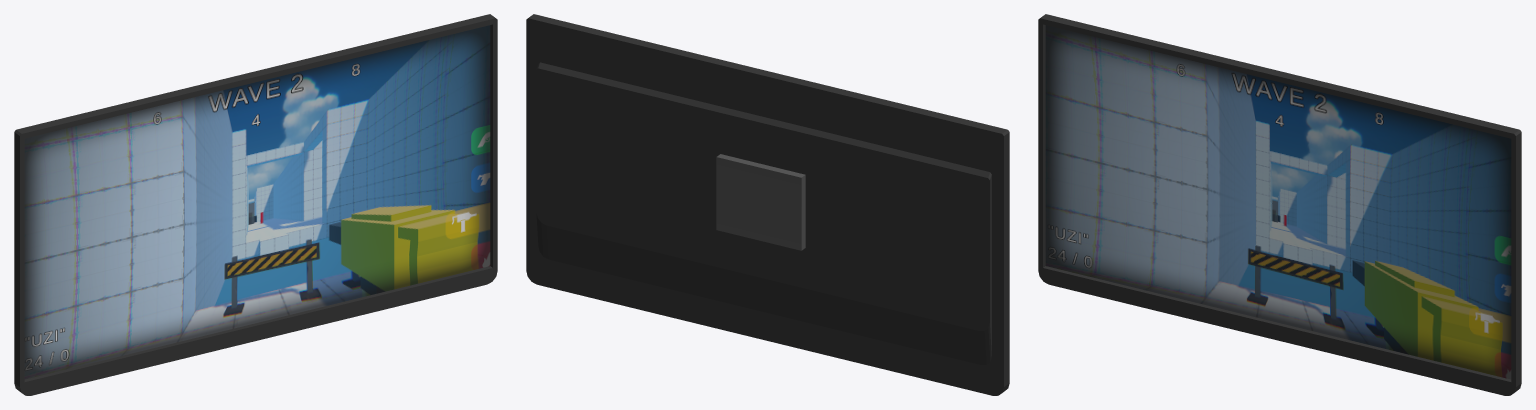
3 renders of one model, left to right at view 1: azimuth 30°, elevation 25°; view 2: azimuth 150°, elevation 25°; view 3: azimuth 330°, elevation 25°, orthographic.
Visible parts, largest first — view 1: TV 4 Mounted; view 2: TV 4 Mounted; view 3: TV 4 Mounted.
Part boxes in pixels (left/top/right/bottom): TV 4 Mounted: left=14, top=14, right=497, bottom=395; TV 4 Mounted: left=526, top=14, right=1009, bottom=395; TV 4 Mounted: left=1038, top=14, right=1521, bottom=395.
Size of the model in its own units: 1.31 by 0.6917 by 0.0562.
Materials: 2 (2 with a texture image).
